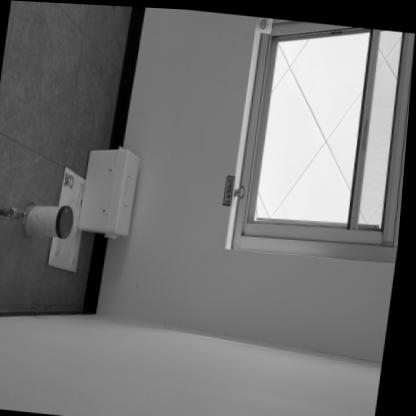DDL: (81, 144, 143, 236)
